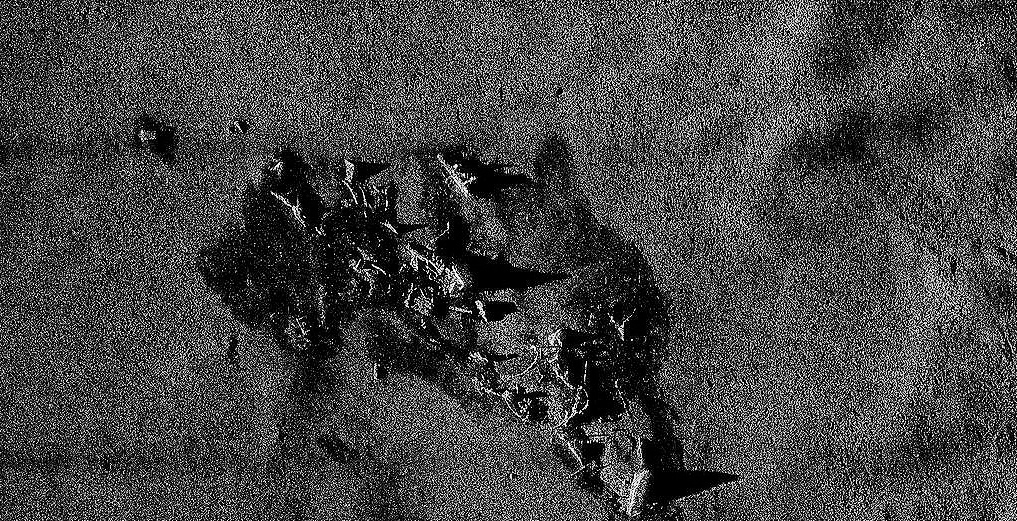ship: (239, 157, 659, 516)
